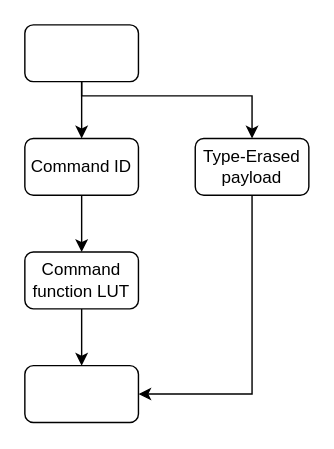
This 334x449 diagram has some shape labels left out. The centre of each missing label's shape, as x and y in pixels:
Reconstructed command payload: the point at 80,393
Typed frontent command: the point at 80,52
